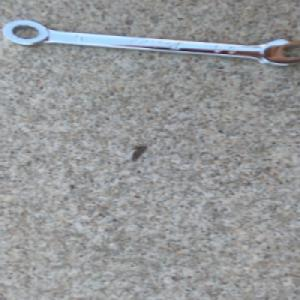Wrench: (1, 18, 300, 67)
